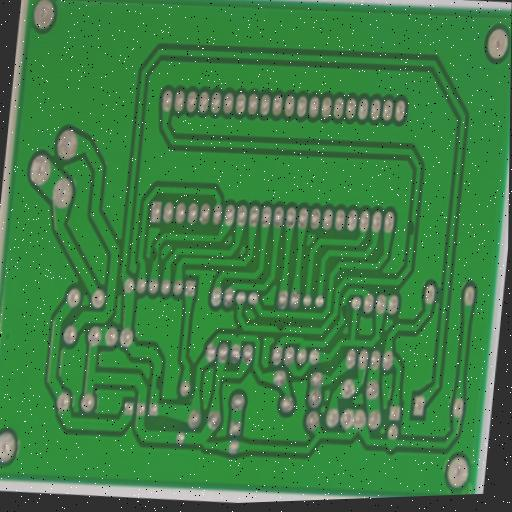mouse_bite: (406, 214, 420, 241), (151, 373, 164, 397), (337, 300, 351, 322), (272, 321, 288, 338), (148, 244, 160, 265)
